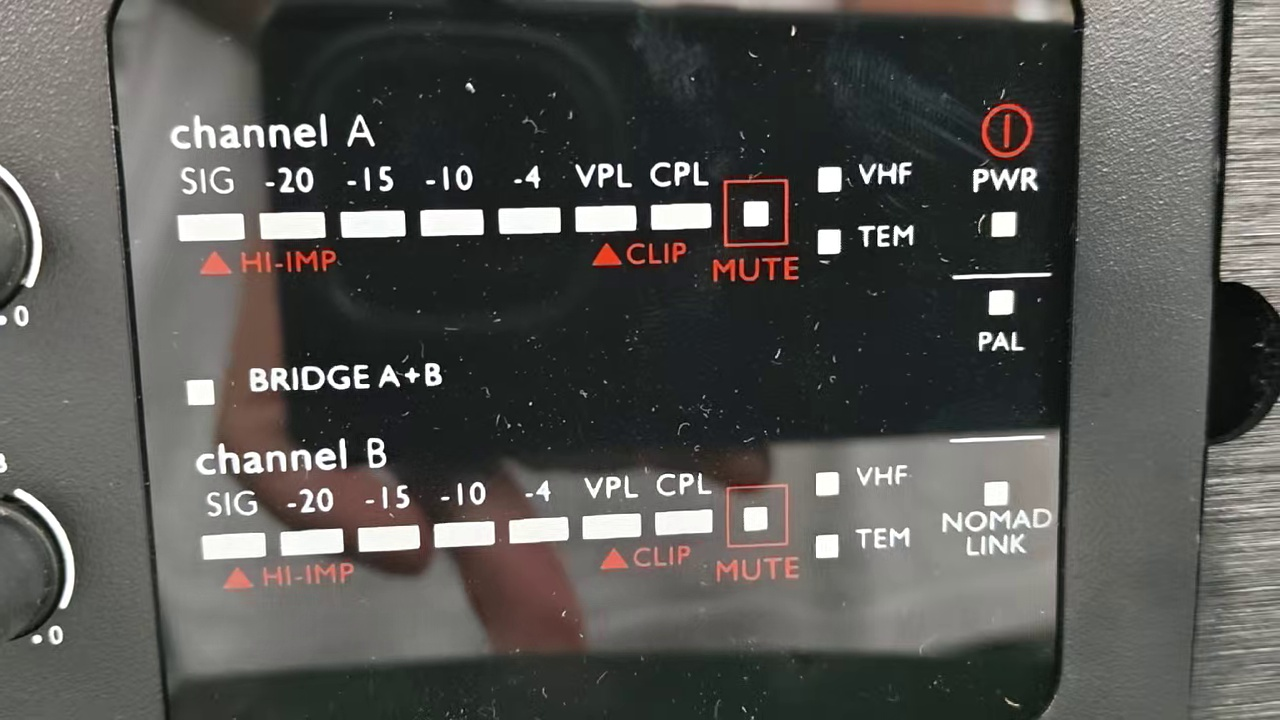FP_CPL: (640, 152, 717, 242), (645, 462, 719, 545)
FP_PWR: (961, 160, 1052, 246)
FP_PWR_area: (955, 93, 1053, 274)
FP_SIG_area: (193, 426, 920, 603), (161, 152, 929, 286)
FP_VPL: (570, 153, 640, 243), (578, 462, 647, 544)
